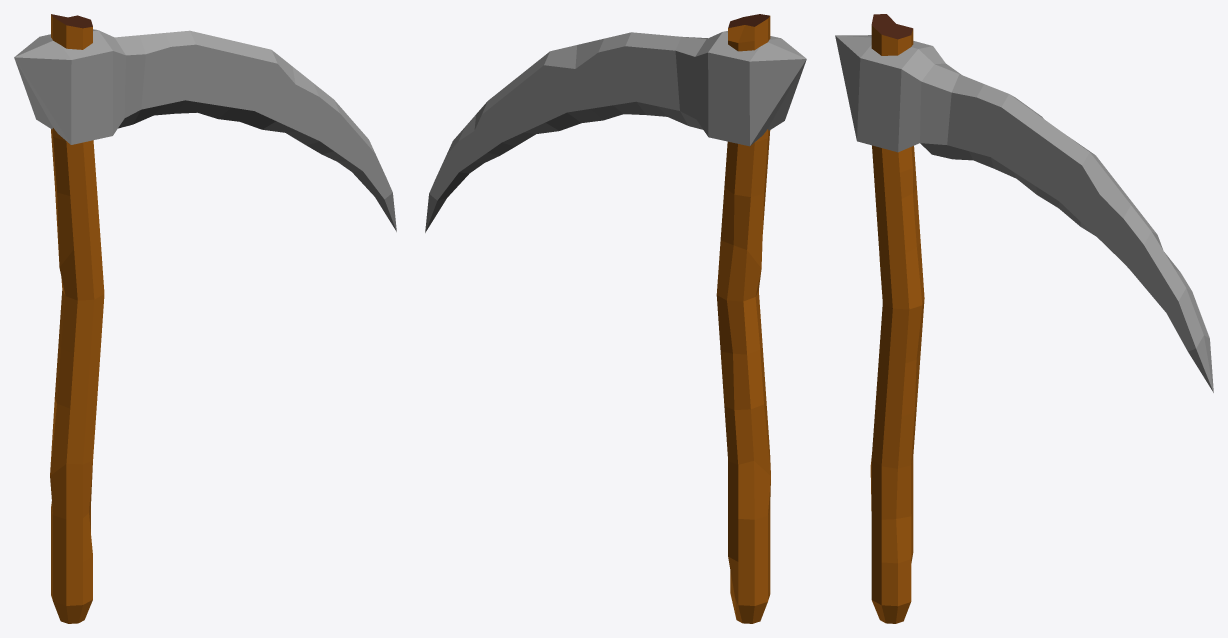
3 renders of one model, left to right at view 1: azimuth 30°, elevation 25°; view 2: azimuth 150°, elevation 25°; view 3: azimuth 330°, elevation 25°, orthographic.
Parts seen in each view (by area): view 1: Plano.011, Cilindro.021; view 2: Plano.011, Cilindro.021; view 3: Plano.011, Cilindro.021.
Boxes of the visible parts, left/top/right/bottom form: Plano.011: left=14, top=29, right=396, bottom=231; Cilindro.021: left=50, top=14, right=104, bottom=623; Plano.011: left=425, top=31, right=806, bottom=232; Cilindro.021: left=716, top=14, right=770, bottom=623; Plano.011: left=835, top=35, right=1213, bottom=392; Cilindro.021: left=870, top=14, right=924, bottom=623.
Bounding box in the file's own units: 303 × 459 × 48.08.
